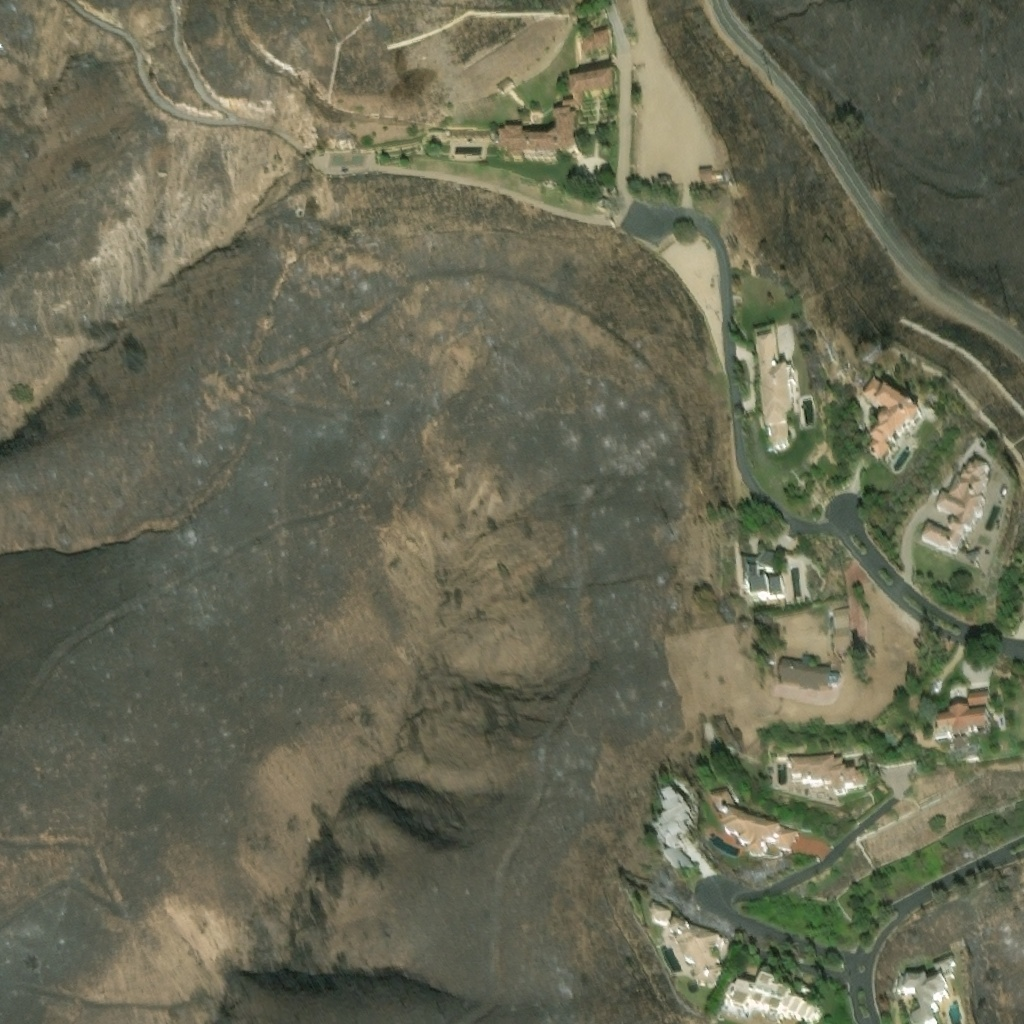0 no-damage: (919, 460, 987, 548), (751, 322, 793, 451), (863, 379, 922, 461), (722, 974, 820, 1023), (497, 102, 574, 160), (895, 955, 954, 1023), (721, 807, 797, 858), (667, 917, 723, 983), (788, 753, 867, 791), (651, 797, 693, 852), (779, 656, 840, 692), (743, 550, 784, 599), (559, 66, 611, 101), (937, 707, 988, 736), (663, 836, 696, 877), (827, 607, 850, 649), (709, 785, 735, 811), (657, 788, 679, 816), (581, 28, 608, 47), (649, 903, 670, 925), (967, 691, 988, 707), (495, 71, 511, 87), (701, 172, 717, 185), (521, 152, 555, 158), (0, 42, 4, 50)
